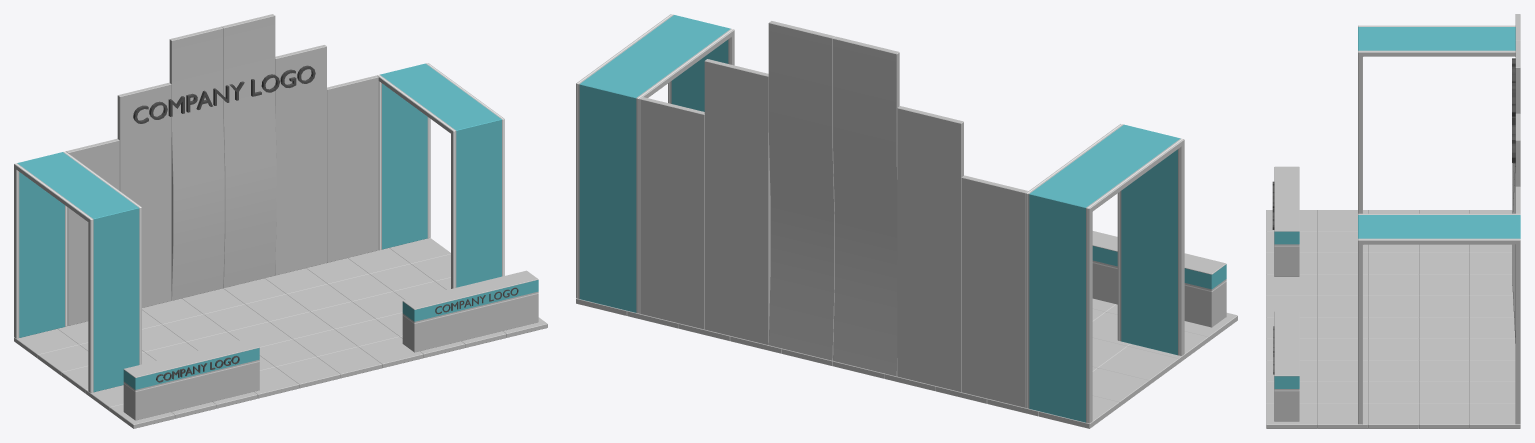
File: stand_9.fbx
3 renders of one model, left to right at view 1: azimuth 30°, elevation 25°; view 2: azimuth 150°, elevation 25°; view 3: azimuth 270°, elevation 25°, orthographic. The views are drawn at different scales.
Visible parts, largest first — view 1: stand_9, logo_9; view 2: stand_9; view 3: stand_9, logo_9.
Part boxes in pixels (box(x1,y1,x2,y2)): stand_9: box(14, 14, 547, 428); logo_9: box(133, 65, 315, 123); stand_9: box(576, 14, 1237, 428); stand_9: box(1266, 14, 1520, 428); logo_9: box(1512, 58, 1515, 163).
Bounding box in the file's own units: 10 × 6.1 × 5.
